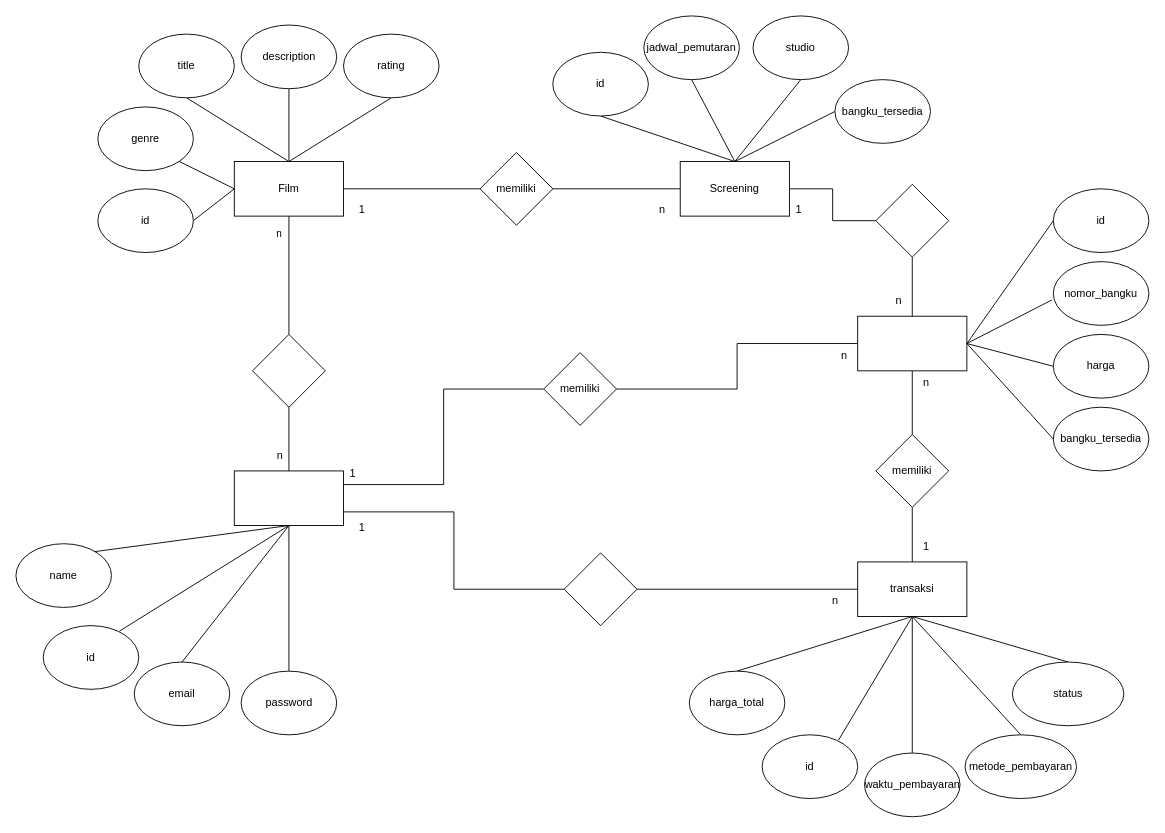
Image size: 1165x833. Some labels were removed from this diagram. Each missing label, with the box of its shape:
melakukan: (563, 552, 637, 626)
melihat: (252, 334, 325, 407)
memliki: (875, 183, 949, 257)
Pembeli: (233, 470, 344, 526)
ticket: (857, 315, 967, 371)
